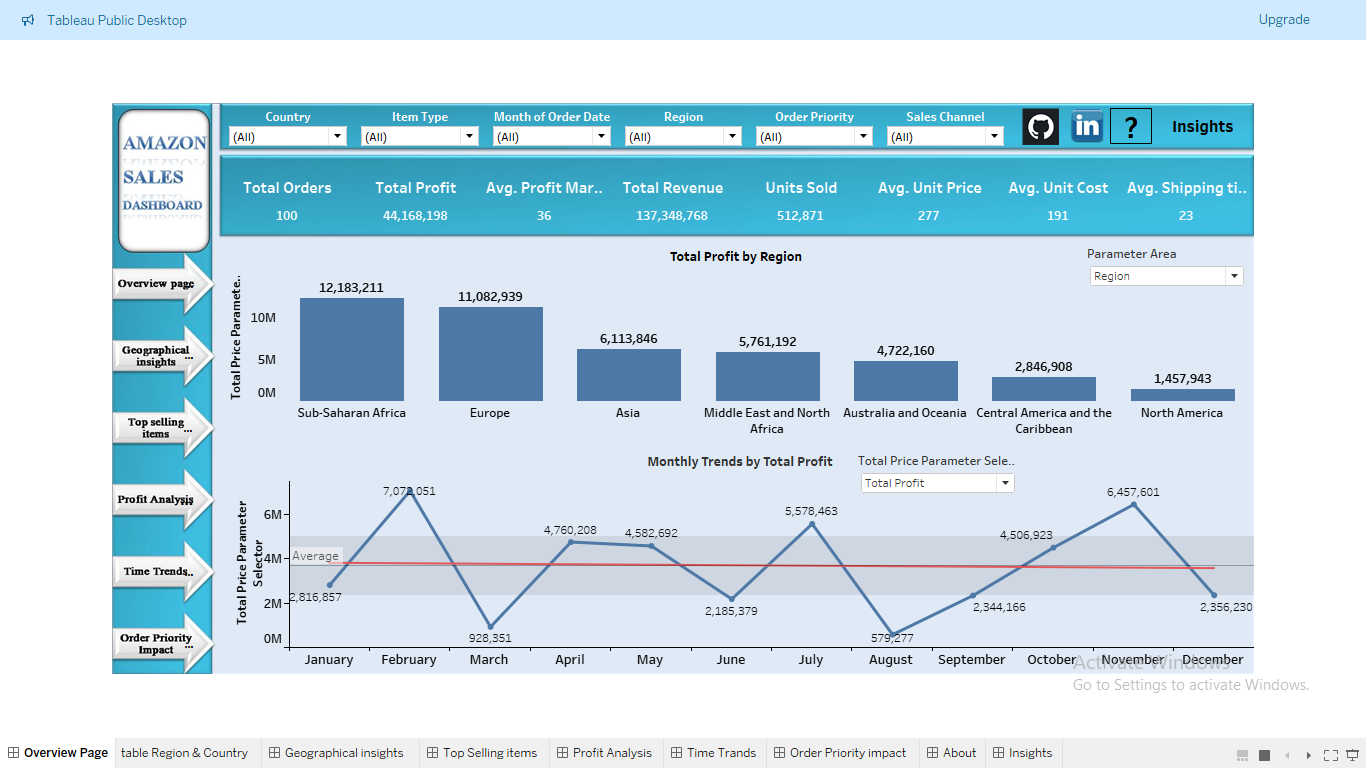

What the dashboard file says about the page in this screenshot:
{"tool":"tableau","page":{"name":"Overview Page","canvas":[1150,590],"ordinal":4},"visuals":[{"type":"image","param":"Image/Overview page 1.jpg","box":[0,0,1150,590]},{"type":"filter","title":"Monthly Trends by","param":"[federated.0k0h3zn0j6ocbn1h67y0m1jnyyte].[none:Country:nk]","box":[114,10,132,47]},{"type":"filter","title":"Monthly Trends by","param":"[federated.0k0h3zn0j6ocbn1h67y0m1jnyyte].[none:Item Type:nk]","box":[246,10,132,47]},{"type":"filter","title":"Monthly Trends by","param":"[federated.0k0h3zn0j6ocbn1h67y0m1jnyyte].[mn:Order Date:ok]","box":[378,10,132,47]},{"type":"filter","title":"Monthly Trends by","param":"[federated.0k0h3zn0j6ocbn1h67y0m1jnyyte].[none:Region:nk]","box":[510,10,131,47]},{"type":"filter","title":"Monthly Trends by","param":"[federated.0k0h3zn0j6ocbn1h67y0m1jnyyte].[none:Order Priority:nk]","box":[641,10,131,47]},{"type":"filter","title":"Monthly Trends by","param":"[federated.0k0h3zn0j6ocbn1h67y0m1jnyyte].[none:Sales Channel:nk]","box":[772,10,131,47]},{"type":"image","param":"Image/linkedin-logo-png-1826.png","box":[955,11,48,40]},{"type":"dashboard-object","box":[1054,13,83,38]},{"type":"image","param":"Image/github-6980894_1920.png","box":[914,14,37,38]},{"type":"dashboard-object","box":[1002,14,42,36]},{"type":"worksheet","title":"KPI","mark":"Automatic","box":[115,64,1028,75]},{"type":"worksheet","title":"Revenue & Profit by","mark":"Bar","rows":["Calculation_864128192245633026"],"cols":["Calculation_864128192235753473"],"box":[112,149,1032,198]},{"type":"parameter","param":"[Parameters].[Parameter 1]","box":[979,151,160,44]},{"type":"legend","title":"Revenue & Profit by","param":"[federated.0k0h3zn0j6ocbn1h67y0m1jnyyte].[:Measure Names]","box":[805,155,125,63]},{"type":"dashboard-object","box":[7,177,83,25]},{"type":"dashboard-object","box":[7,248,83,25]},{"type":"dashboard-object","box":[6,321,83,25]},{"type":"worksheet","title":"Monthly Trends by","mark":"Automatic","rows":["Calculation_864128192245633026"],"cols":["Order Date"],"box":[118,354,1028,221]},{"type":"parameter","param":"[Parameters].[Parameter 2]","box":[750,358,160,44]},{"type":"dashboard-object","box":[7,393,83,25]},{"type":"dashboard-object","box":[7,465,83,25]},{"type":"dashboard-object","box":[7,537,83,25]}]}

Visuals, with their boxes on the page's 1150x590 design canvas (x1, y1, x2, y2). These are canvas units, not pixel positions in the 1366x768 screenshot, which may show the page scaled, cropped or inside an application window:
image: {"left": 0, "top": 0, "right": 1150, "bottom": 590}
"Monthly Trends by" filter: {"left": 114, "top": 10, "right": 246, "bottom": 57}
"Monthly Trends by" filter: {"left": 246, "top": 10, "right": 378, "bottom": 57}
"Monthly Trends by" filter: {"left": 378, "top": 10, "right": 510, "bottom": 57}
"Monthly Trends by" filter: {"left": 510, "top": 10, "right": 641, "bottom": 57}
"Monthly Trends by" filter: {"left": 641, "top": 10, "right": 772, "bottom": 57}
"Monthly Trends by" filter: {"left": 772, "top": 10, "right": 903, "bottom": 57}
image: {"left": 955, "top": 11, "right": 1003, "bottom": 51}
dashboard-object: {"left": 1054, "top": 13, "right": 1137, "bottom": 51}
image: {"left": 914, "top": 14, "right": 951, "bottom": 52}
dashboard-object: {"left": 1002, "top": 14, "right": 1044, "bottom": 50}
"KPI" worksheet: {"left": 115, "top": 64, "right": 1143, "bottom": 139}
"Revenue & Profit by" worksheet (Bar marks): {"left": 112, "top": 149, "right": 1144, "bottom": 347}
parameter: {"left": 979, "top": 151, "right": 1139, "bottom": 195}
"Revenue & Profit by" legend: {"left": 805, "top": 155, "right": 930, "bottom": 218}
dashboard-object: {"left": 7, "top": 177, "right": 90, "bottom": 202}
dashboard-object: {"left": 7, "top": 248, "right": 90, "bottom": 273}
dashboard-object: {"left": 6, "top": 321, "right": 89, "bottom": 346}
"Monthly Trends by" worksheet: {"left": 118, "top": 354, "right": 1146, "bottom": 575}
parameter: {"left": 750, "top": 358, "right": 910, "bottom": 402}
dashboard-object: {"left": 7, "top": 393, "right": 90, "bottom": 418}
dashboard-object: {"left": 7, "top": 465, "right": 90, "bottom": 490}
dashboard-object: {"left": 7, "top": 537, "right": 90, "bottom": 562}
